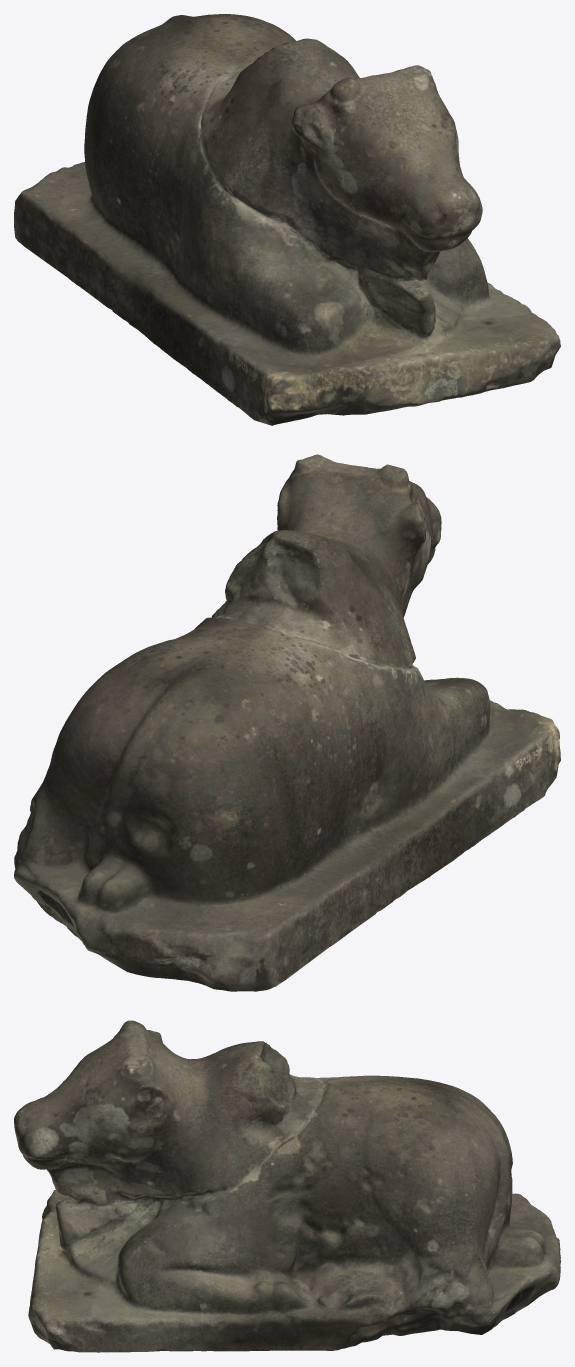
File: MysonMuseum_BothanNandin.glb
3 renders of one model, top to bottom at view 1: azimuth 30°, elevation 25°; view 2: azimuth 150°, elevation 25°; view 3: azimuth 270°, elevation 25°, orthographic. The views are drawn at different scales.
Parts seen in each view (by area): view 1: remeshmysonmuseum_bothannandin; view 2: remeshmysonmuseum_bothannandin; view 3: remeshmysonmuseum_bothannandin.
Boxes of the visible parts, x1,y1,x2,y2 form: remeshmysonmuseum_bothannandin: [14, 14, 560, 425]; remeshmysonmuseum_bothannandin: [14, 454, 560, 991]; remeshmysonmuseum_bothannandin: [14, 1020, 560, 1352].
Size of the model in its own units: 0.4487 by 0.44 by 0.8426.
1 material, 1 textured.
